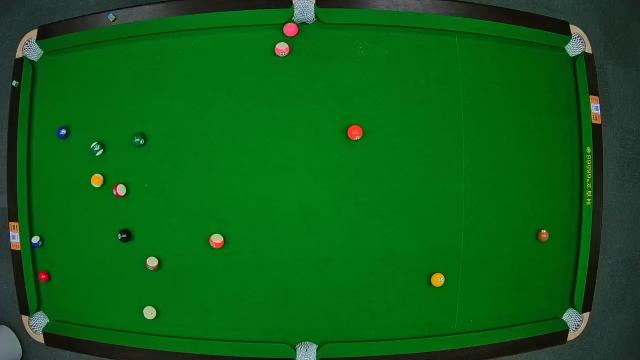bag1: (22, 39, 40, 59)
bag2: (292, 1, 316, 23)
bag3: (566, 35, 586, 57)
bag4: (28, 310, 48, 334)
bag5: (295, 339, 319, 360)
bag6: (564, 308, 584, 332)
ball0: (143, 304, 157, 320)
ball1: (430, 272, 446, 288)
ball10: (30, 235, 44, 249)
ball11: (114, 182, 126, 198)
ball12: (274, 40, 290, 57)
ball13: (209, 233, 225, 249)
ball14: (90, 140, 106, 158)
ball15: (145, 256, 161, 272)
ball2: (56, 124, 70, 139)
ball3: (38, 270, 51, 284)
ball4: (284, 22, 300, 38)
ball5: (347, 124, 363, 140)
ball6: (131, 131, 147, 147)
ball7: (536, 228, 550, 244)
ball8: (118, 227, 134, 243)
ball9: (91, 174, 105, 188)
